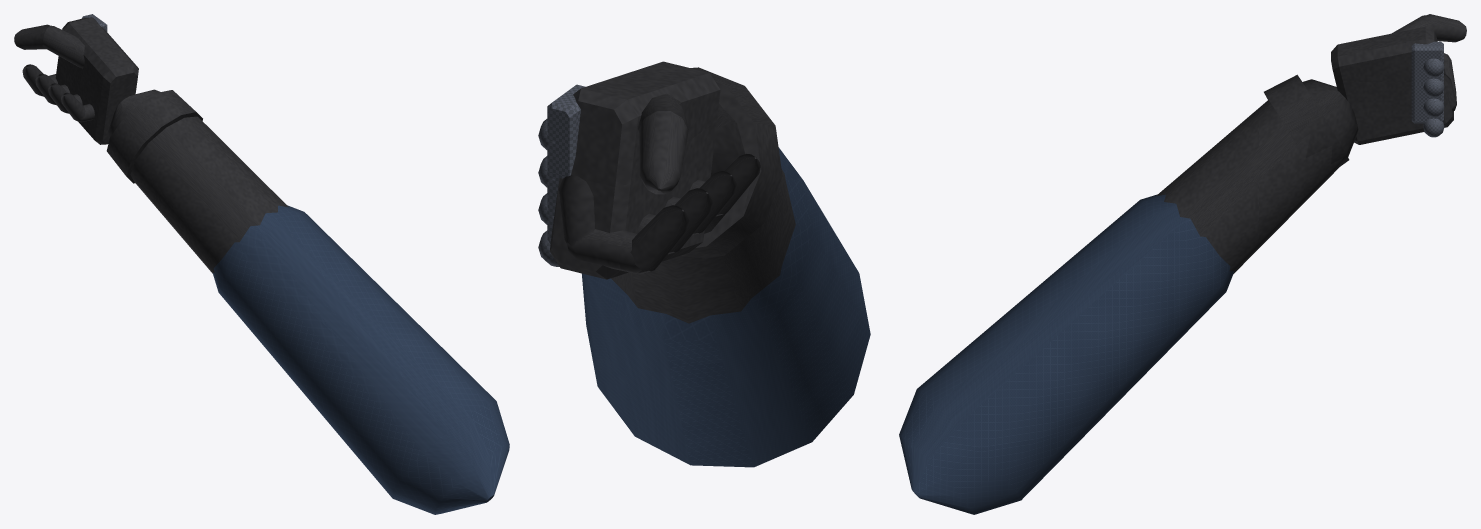
The model's file is fp_hands_ct_knife.glb.
3 renders of one model, left to right at view 1: azimuth 30°, elevation 25°; view 2: azimuth 150°, elevation 25°; view 3: azimuth 270°, elevation 25°, orthographic. The views are drawn at different scales.
Parts seen in each view (by area): view 1: WeaponRoot; view 2: WeaponRoot; view 3: WeaponRoot.
Part boxes in pixels (box(x1,y1,x2,y2)): WeaponRoot: box(14, 14, 509, 514); WeaponRoot: box(538, 61, 870, 467); WeaponRoot: box(899, 14, 1466, 514).
Bounding box in the file's own units: 0.2176 × 0.2974 × 0.3862.
3 materials, 3 textured.
